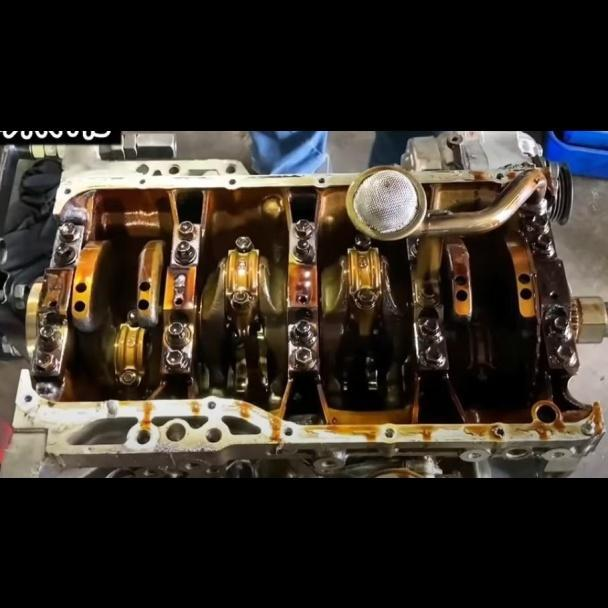hole: (204, 427, 222, 444), (135, 429, 153, 446), (385, 427, 395, 438), (282, 427, 294, 436), (207, 401, 216, 410), (496, 172, 505, 181), (22, 395, 32, 403), (139, 177, 147, 186), (228, 177, 236, 185), (317, 177, 325, 185), (62, 187, 70, 195)
